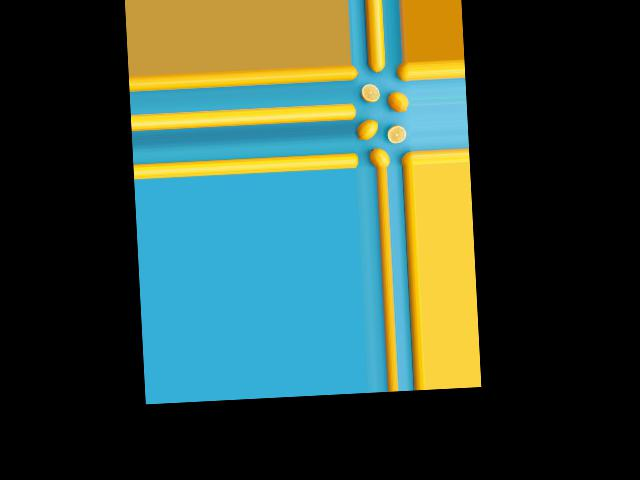lemon: (398, 149, 413, 167)
